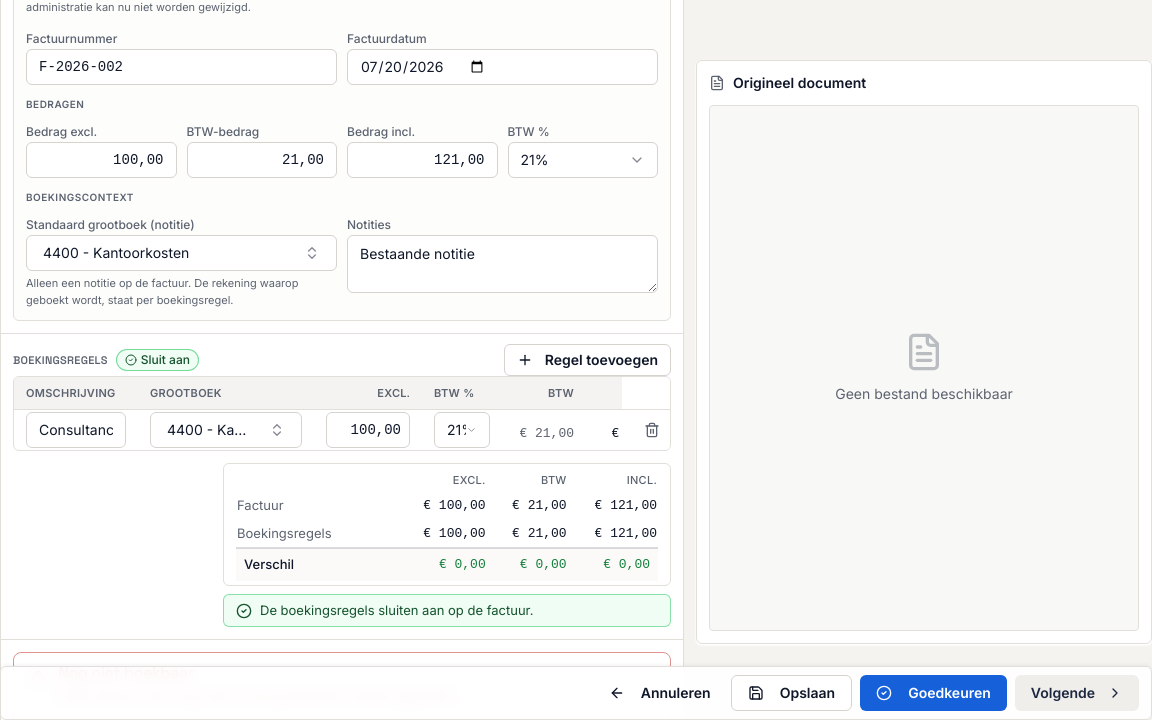
Test: PurchaseInvoiceWorkspace — factuurgegevens & boekingsregels › 11. regel toevoegen voegt een lege regel toe
The width and height of the screenshot is (1152, 720).
(page scrolled)
Step 1. Click the button "Regel toevoegen" → (587,360), box [504,344,671,376]
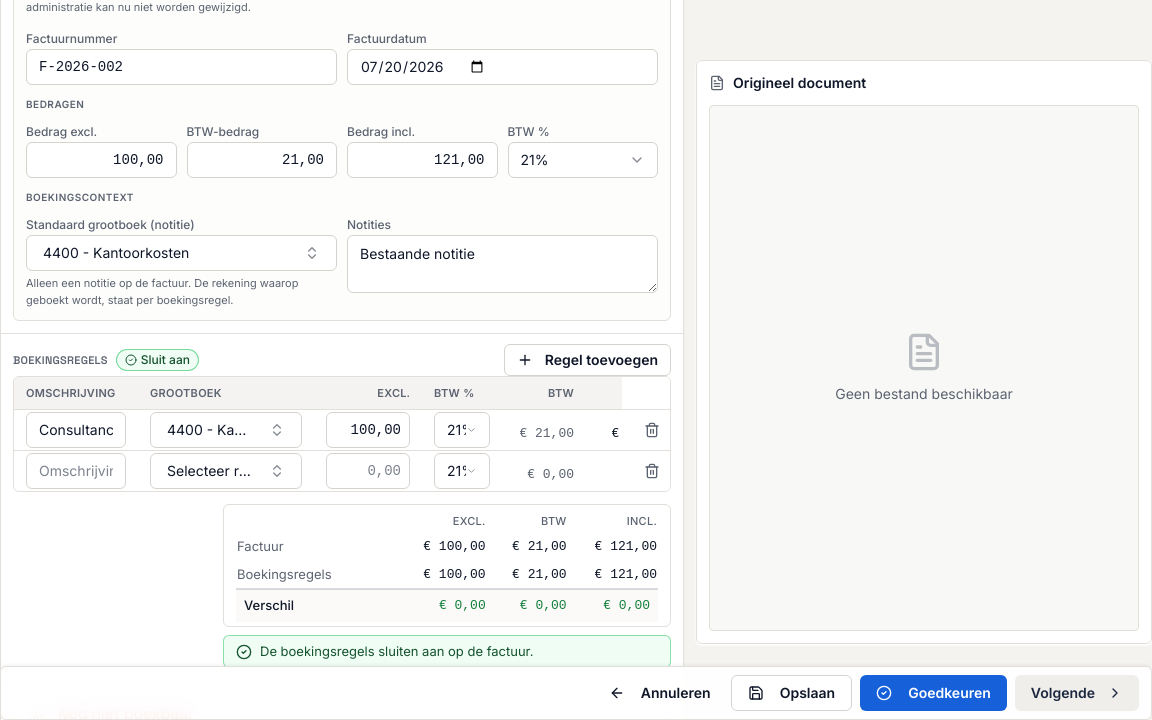
Now the number of fields with placeholder "Omschrijving" is 2, box [26,412,126,448]; [26,452,126,488]
